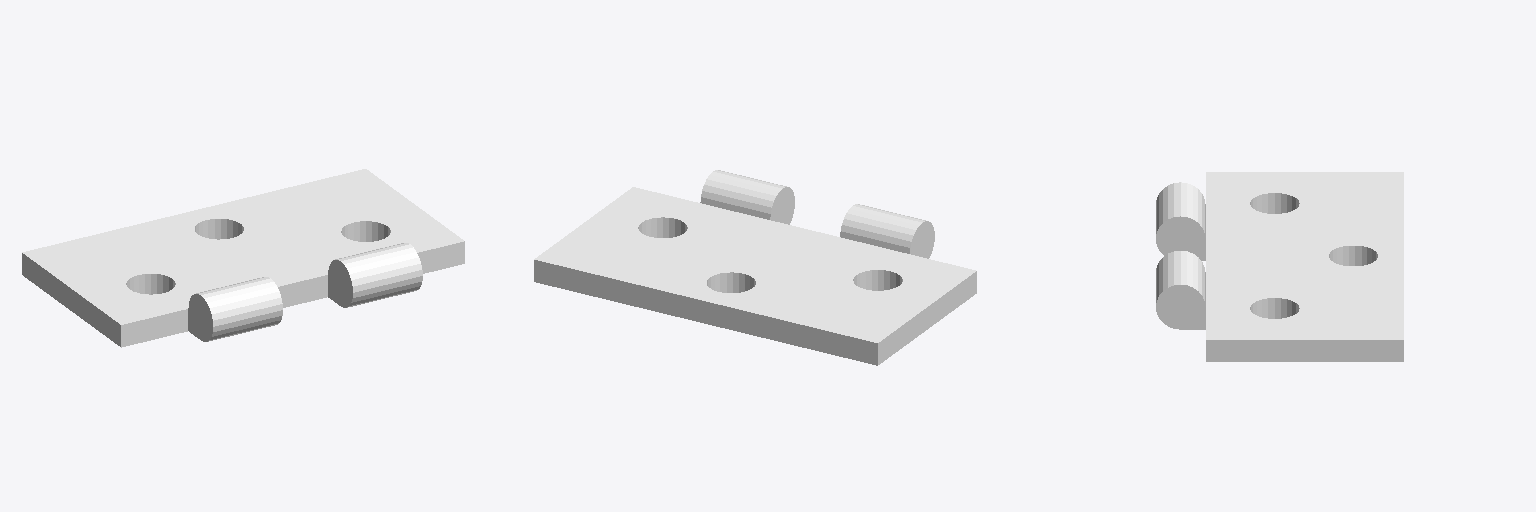
The model's file is Hinges_1_swing.obj.
3 renders of one model, left to right at view 1: azimuth 30°, elevation 25°; view 2: azimuth 150°, elevation 25°; view 3: azimuth 270°, elevation 25°, orthographic.
Visible parts, largest first — view 1: Hinges_1_swing_g_6200-Default_Material; view 2: Hinges_1_swing_g_6200-Default_Material; view 3: Hinges_1_swing_g_6200-Default_Material.
Boxes of the visible parts, box(x1,y1,x2,y2) form: Hinges_1_swing_g_6200-Default_Material: box(22, 169, 464, 347); Hinges_1_swing_g_6200-Default_Material: box(534, 170, 976, 365); Hinges_1_swing_g_6200-Default_Material: box(1156, 172, 1403, 361).
Bounding box in the file's own units: 1.02 × 0.1273 × 0.6353.